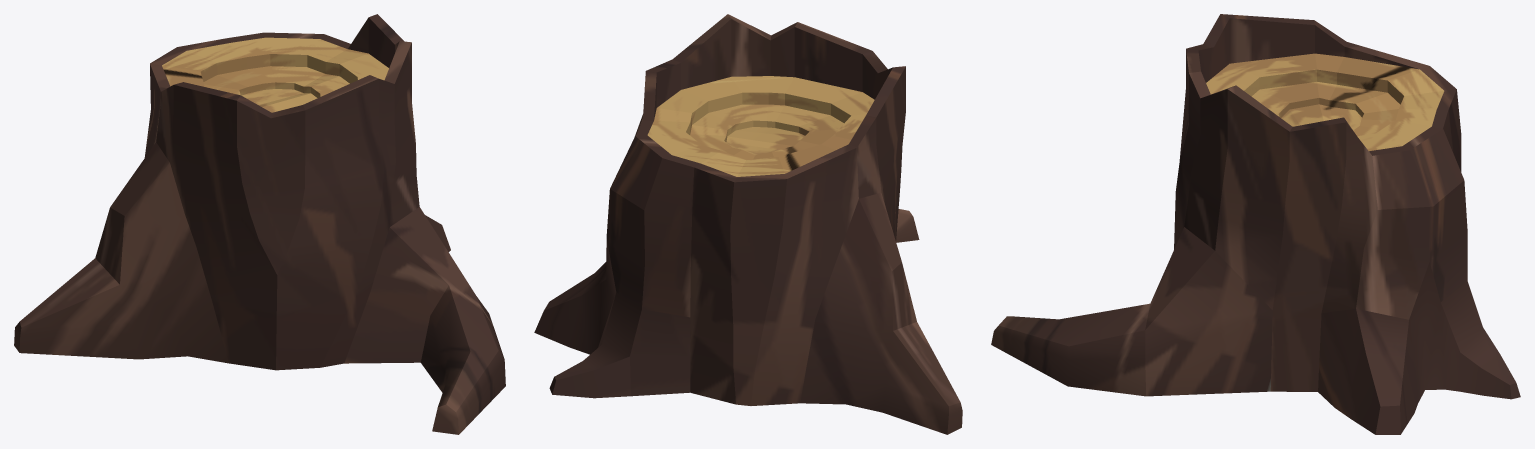
The model's file is Oak Stump.obj.
The picture shows the model from 3 angles, left to right: view 1: azimuth 30°, elevation 25°; view 2: azimuth 150°, elevation 25°; view 3: azimuth 270°, elevation 25°; orthographic projection. The views are drawn at different scales.
Visible parts, largest first — view 1: polySurface1; view 2: polySurface1; view 3: polySurface1.
Part boxes in pixels (left/top/right/bottom): polySurface1: left=14, top=14, right=505, bottom=434; polySurface1: left=534, top=14, right=962, bottom=434; polySurface1: left=991, top=14, right=1520, bottom=434.
Bounding box in the file's own units: 65.28 × 42.31 × 69.56.
